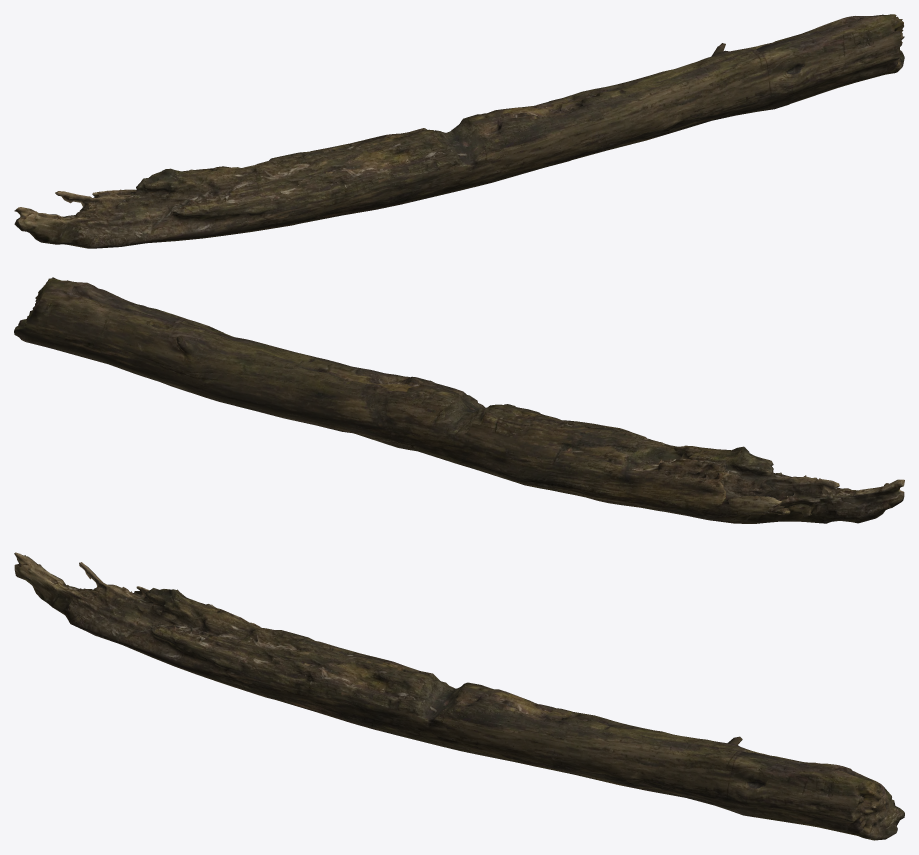
Rendered from fallen-trunk.glb.
3 views of the same model, one above another, from view 1: azimuth 30°, elevation 25°; view 2: azimuth 150°, elevation 25°; view 3: azimuth 330°, elevation 25° (orthographic).
Parts seen in each view (by area): view 1: dead_tree_trunk; view 2: dead_tree_trunk; view 3: dead_tree_trunk.
Part boxes in pixels (left/top/right/bottom): dead_tree_trunk: left=14, top=14, right=904, bottom=248; dead_tree_trunk: left=14, top=277, right=904, bottom=523; dead_tree_trunk: left=14, top=552, right=904, bottom=840.
Bounding box in the file's own units: 3.05 × 0.2899 × 0.2774.
Materials: 1 (1 with a texture image).
